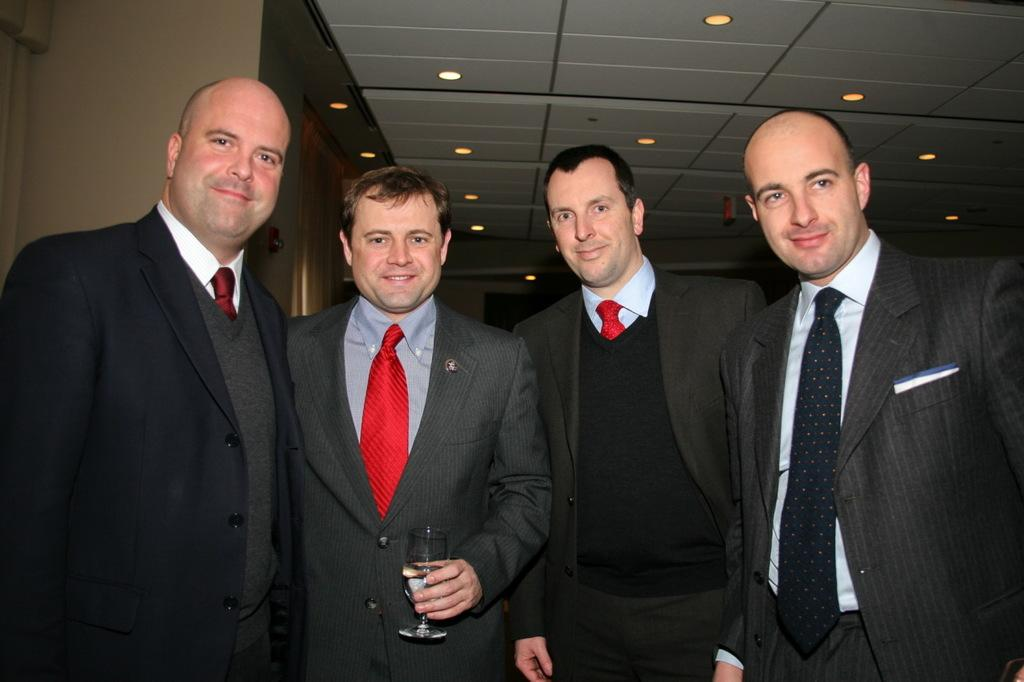Sem Máscara: (177, 86, 300, 239), (746, 113, 852, 275), (350, 184, 446, 314), (543, 155, 625, 285)
